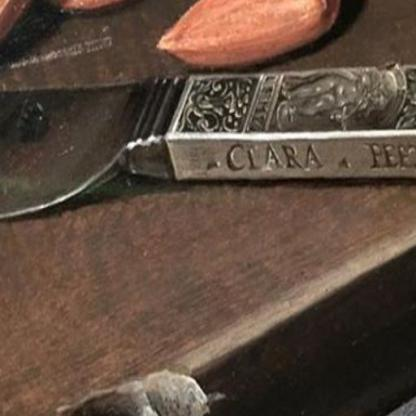knife: (0, 37, 415, 226)
